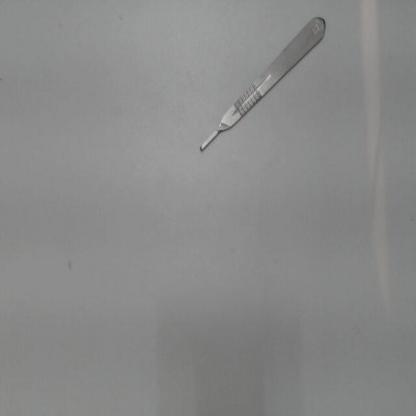No.3 BP Handle: (190, 12, 338, 161)
